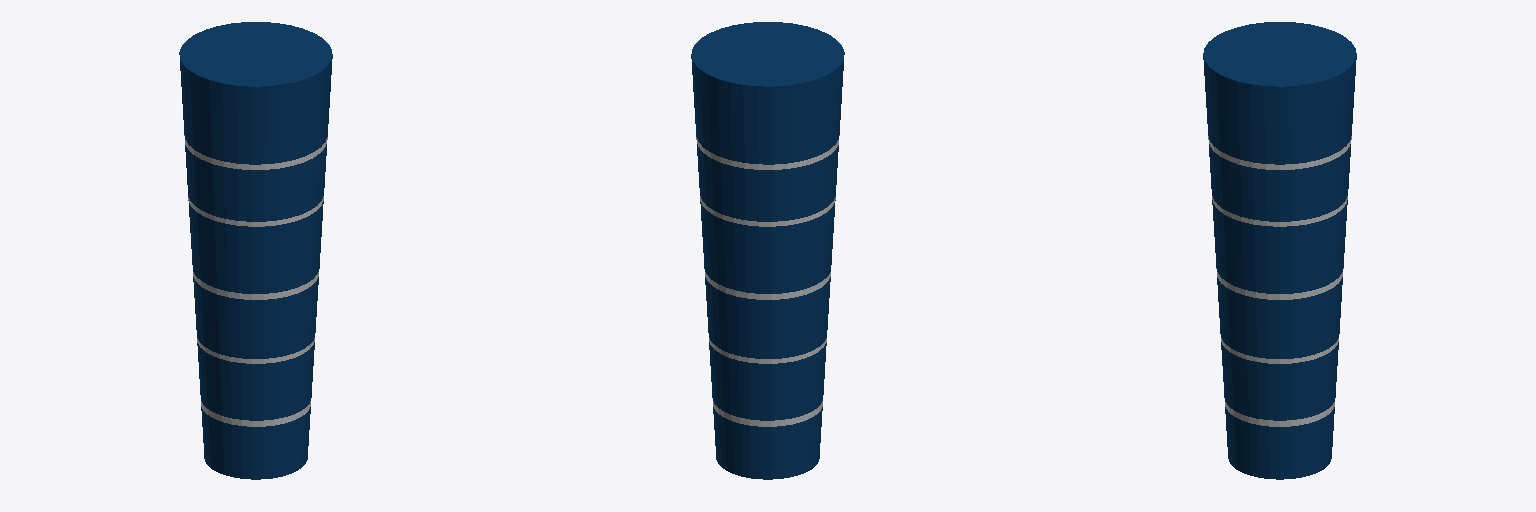
File: mejasilinder.obj
3 renders of one model, left to right at view 1: azimuth 30°, elevation 25°; view 2: azimuth 150°, elevation 25°; view 3: azimuth 270°, elevation 25°, orthographic.
Parts seen in each view (by area): view 1: Cylinder; view 2: Cylinder; view 3: Cylinder.
Part boxes in pixels (left/top/right/bottom): Cylinder: left=179, top=22, right=332, bottom=479; Cylinder: left=691, top=22, right=844, bottom=479; Cylinder: left=1203, top=22, right=1356, bottom=479.
Bounding box in the file's own units: 6.61 × 19.14 × 6.61.